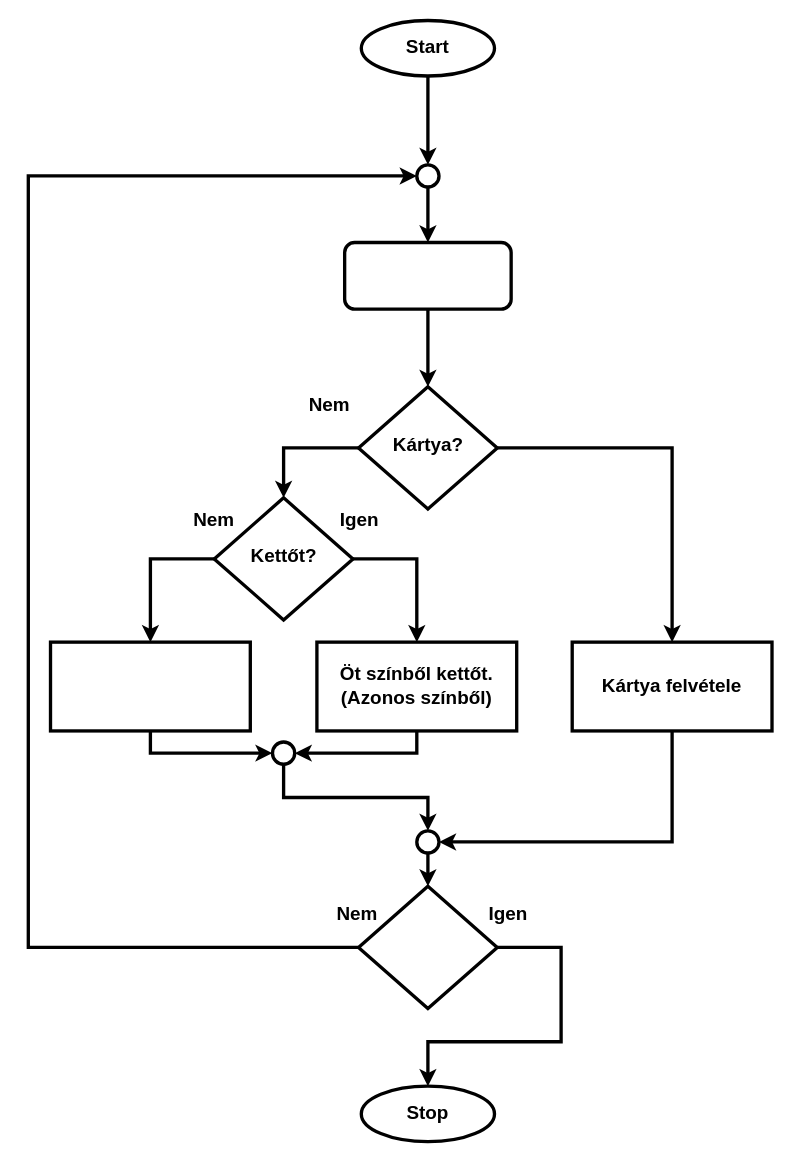
Image size: 793x1170. Some labels were removed from this diagram. Here are the shapes that lost their labels. From the top down, the centre of each, then its label:
(x=427, y=275): Következő játékos kijelölése
(x=149, y=686): Öt színből legfeljebb hármat. (Különböző színből)
(x=427, y=947): Vége a játéknak?
